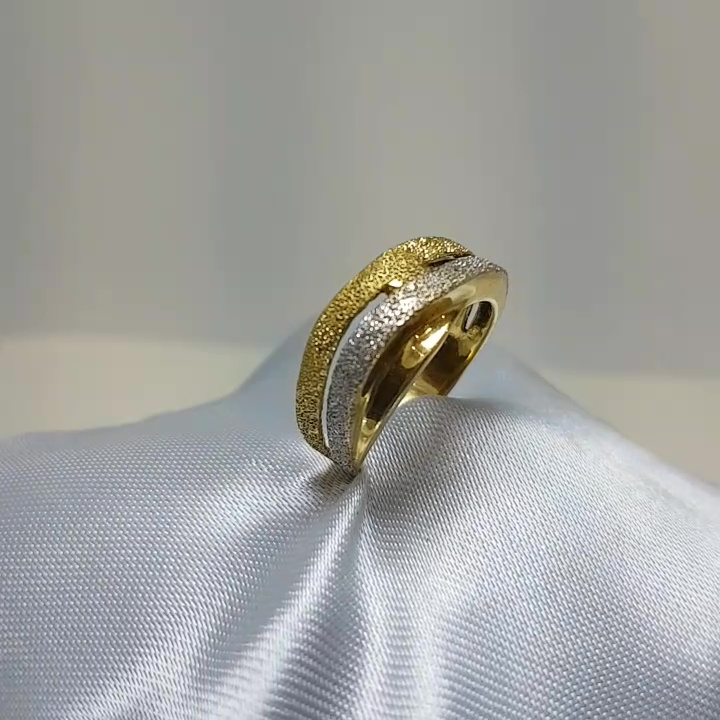Ring 5: (253, 225, 510, 489)
